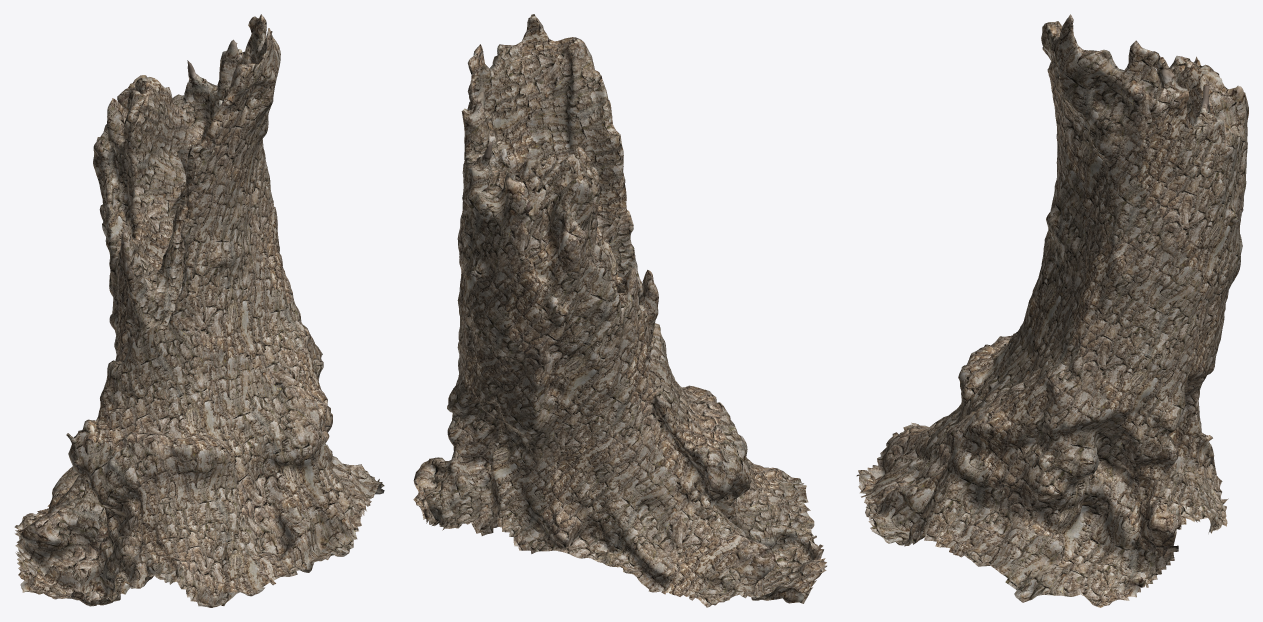
Rendered from Log2.fbx.
The picture shows the model from 3 angles, left to right: view 1: azimuth 30°, elevation 25°; view 2: azimuth 150°, elevation 25°; view 3: azimuth 270°, elevation 25°; orthographic projection. The views are drawn at different scales.
Parts seen in each view (by area): view 1: DeadStump01_Quads; view 2: DeadStump01_Quads; view 3: DeadStump01_Quads.
Boxes of the visible parts, x1,y1,x2,y2 form: DeadStump01_Quads: (14, 14, 384, 607); DeadStump01_Quads: (413, 14, 826, 607); DeadStump01_Quads: (856, 14, 1248, 607).
Size of the model in its own units: 251 by 347 by 213.
